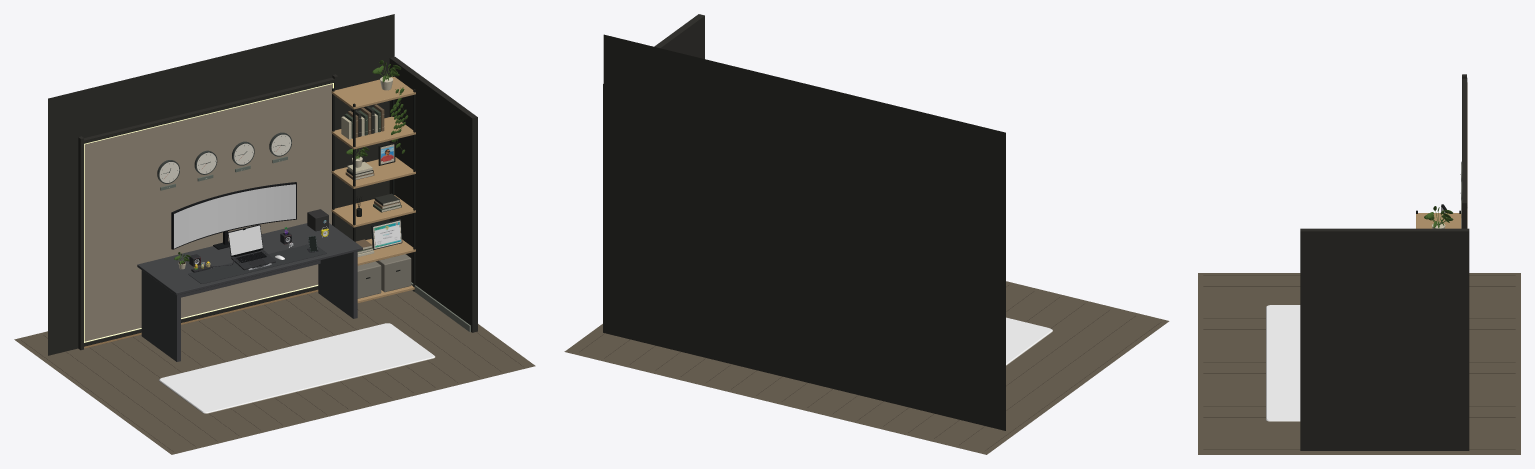
Rendered from room.glb.
3 views of the same model, side by side, from view 1: azimuth 30°, elevation 25°; view 2: azimuth 150°, elevation 25°; view 3: azimuth 270°, elevation 25° (orthographic). The views are drawn at different scales.
Parts seen in each view (by area): view 1: static_floor, static_style_wall_inset, static_wall, static_wall_right, static_style_rug, static_desk_top, static_desk_leg_l, int_screen_right, static_desk_leg_r, int_screen_left, static_style_wall_header_2.185, static_style_shelf_5 (+15 smaller); view 2: static_wall, static_floor, static_wall_right, static_style_rug; view 3: static_wall_right, static_floor, static_style_rug, static_style_wall_header_2.185, static_style_shelf_5.
Part boxes in pixels (x1=…): static_floor: x1=14, y1=290, x2=535, y2=454; static_style_wall_inset: x1=84, y1=84, x2=332, y2=341; static_wall: x1=48, y1=14, x2=394, y2=355; static_wall_right: x1=389, y1=57, x2=477, y2=332; static_style_rug: x1=159, y1=323, x2=435, y2=413; static_desk_top: x1=137, y1=223, x2=362, y2=295; static_desk_leg_l: x1=141, y1=270, x2=180, y2=361; int_screen_right: x1=229, y1=184, x2=295, y2=229; static_desk_leg_r: x1=318, y1=251, x2=357, y2=318; int_screen_left: x1=174, y1=195, x2=229, y2=248; static_style_wall_header_2.185: x1=84, y1=77, x2=334, y2=143; static_style_shelf_5: x1=331, y1=76, x2=415, y2=109; static_wall: x1=603, y1=34, x2=1005, y2=430; static_floor: x1=564, y1=281, x2=1169, y2=454; static_wall_right: x1=603, y1=14, x2=704, y2=333; static_style_rug: x1=1006, y1=317, x2=1052, y2=365; static_wall_right: x1=1300, y1=228, x2=1469, y2=450; static_floor: x1=1198, y1=273, x2=1520, y2=454; static_style_rug: x1=1266, y1=305, x2=1300, y2=421; static_style_wall_header_2.185: x1=1462, y1=78, x2=1467, y2=207; static_style_shelf_5: x1=1416, y1=213, x2=1461, y2=228.
Size of the model in its own units: 4 by 2.7 by 3.
120 materials, 5 textured.
